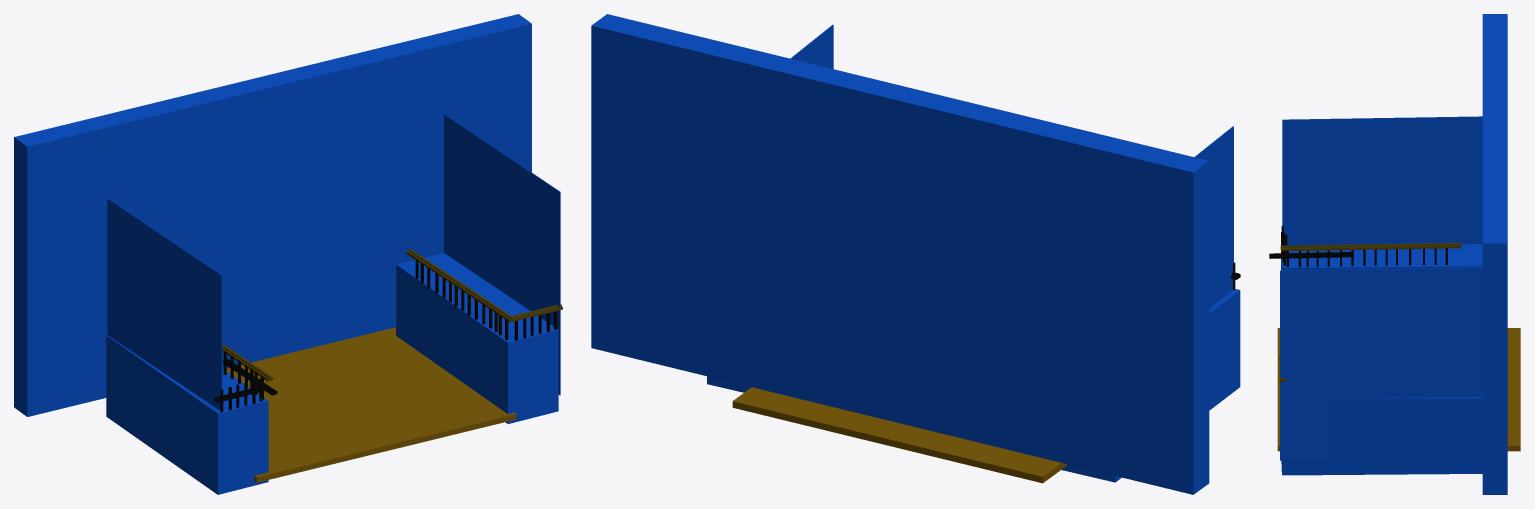
File: casa_4.gltf
3 renders of one model, left to right at view 1: azimuth 30°, elevation 25°; view 2: azimuth 150°, elevation 25°; view 3: azimuth 270°, elevation 25°, orthographic. The views are drawn at different scales.
Parts seen in each view (by area): view 1: pCube1, pasted__pCube83 pasted__casa group3, pasted__casa group3 pasted__pCube85, pasted__casa group3 pasted__pCube86, pasted__casa group3 pasted__pCube5, pasted__casa group3 pasted__pCube52, pasted__casa group3 pasted__pCube78; view 2: pCube1, pasted__pCube83 pasted__casa group3, pasted__casa group3 pasted__pCube86, pasted__casa group3 pasted__pCube52, pasted__casa group3 pasted__pCube85; view 3: pasted__casa group3 pasted__pCube85, pasted__casa group3 pasted__pCube86, pCube1, pasted__casa group3 pasted__pCube5, pasted__casa group3 pasted__pCube52, pasted__pCube83 pasted__casa group3, pasted__casa group3 pasted__pCube76, pasted__casa group3 pasted__pCube75.
Part boxes in pixels (x1,y1,x2,y2): pCube1: (14,14,531,416); pasted__pCube83 pasted__casa group3: (226,327,516,482); pasted__casa group3 pasted__pCube85: (444,114,560,395); pasted__casa group3 pasted__pCube86: (107,198,222,410); pasted__casa group3 pasted__pCube5: (396,253,558,423); pasted__casa group3 pasted__pCube52: (106,335,268,494); pasted__casa group3 pasted__pCube78: (406,249,515,322); pCube1: (591,14,1209,494); pasted__pCube83 pasted__casa group3: (732,387,1066,483); pasted__casa group3 pasted__pCube86: (1194,126,1233,308); pasted__casa group3 pasted__pCube52: (1061,289,1240,482); pasted__casa group3 pasted__pCube85: (790,24,833,68); pasted__casa group3 pasted__pCube85: (1280,267,1482,460); pasted__casa group3 pasted__pCube86: (1282,116,1482,245); pCube1: (1482,14,1507,494); pasted__casa group3 pasted__pCube5: (1281,397,1482,475); pasted__casa group3 pasted__pCube52: (1281,244,1482,270); pasted__pCube83 pasted__casa group3: (1277,328,1520,451); pasted__casa group3 pasted__pCube76: (1280,243,1461,251); pasted__casa group3 pasted__pCube75: (1269,252,1353,258).
Size of the model in its own units: 3106 by 1699 by 1438.
